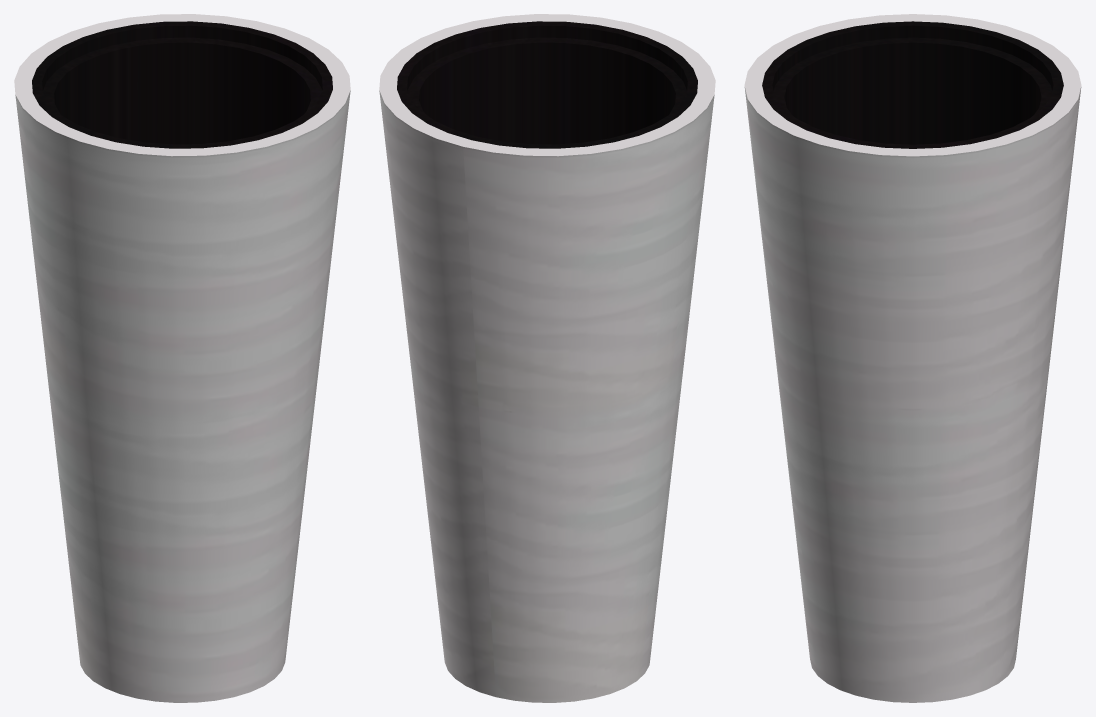
File: Gorshok_beluy.fbx
The picture shows the model from 3 angles, left to right: view 1: azimuth 30°, elevation 25°; view 2: azimuth 150°, elevation 25°; view 3: azimuth 270°, elevation 25°; orthographic projection.
Parts seen in each view (by area): view 1: Цилиндр; view 2: Цилиндр; view 3: Цилиндр.
Boxes of the visible parts, left/top/right/bottom form: Цилиндр: left=14, top=14, right=350, bottom=702; Цилиндр: left=379, top=14, right=715, bottom=702; Цилиндр: left=744, top=14, right=1081, bottom=702.
Size of the model in its own units: 50 by 94 by 50.
2 materials, 2 textured.
